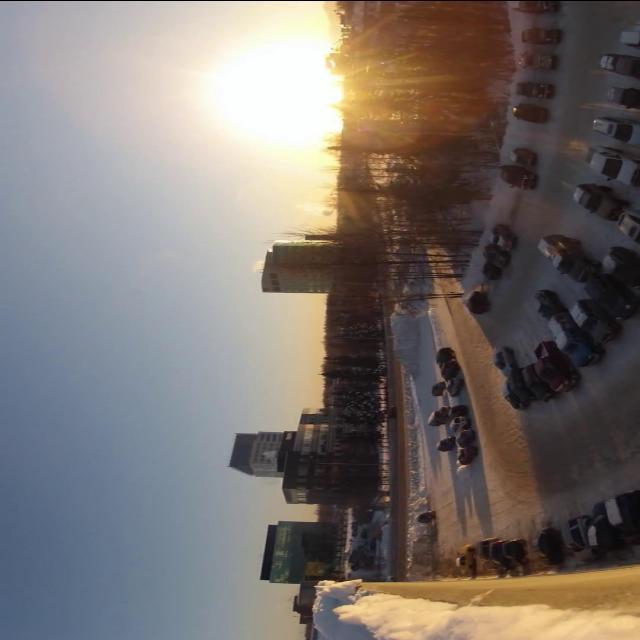Fire: (262, 448, 276, 466)
